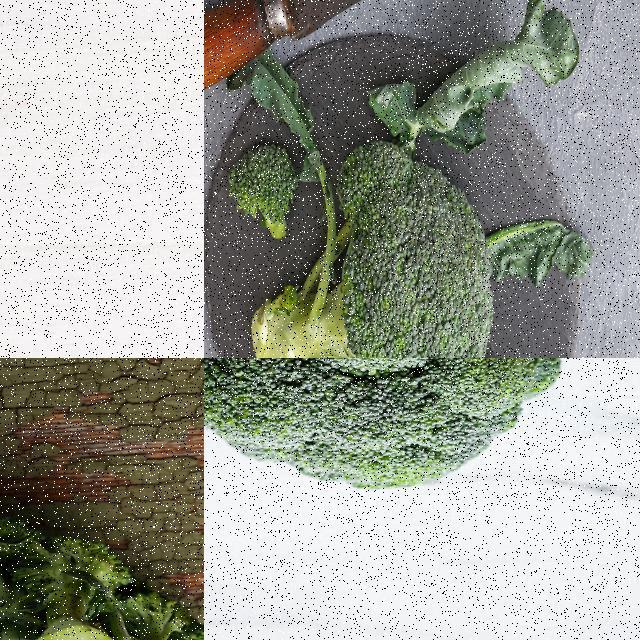broccoli: (223, 145, 493, 357), (204, 358, 562, 491), (0, 508, 203, 639)
